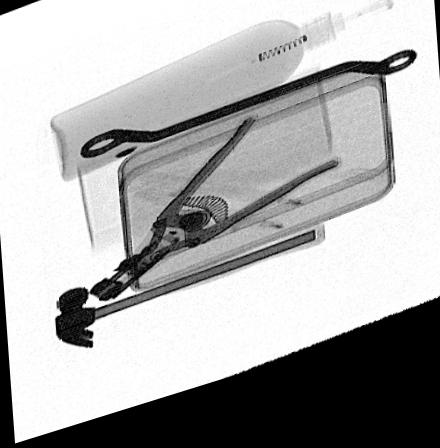Hammer: (55, 239, 329, 355)
Pliers: (88, 129, 347, 309)
Wrench: (77, 71, 421, 167)
